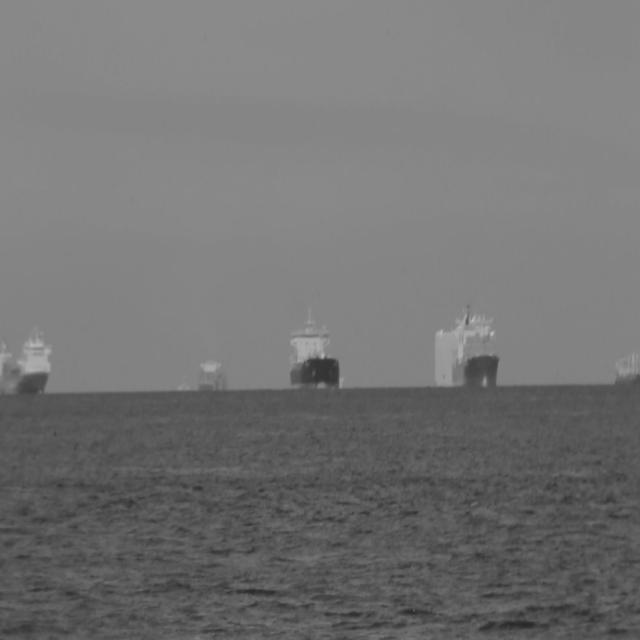ship: (291, 310, 343, 390), (454, 317, 499, 388), (1, 336, 51, 394), (433, 328, 459, 387)
